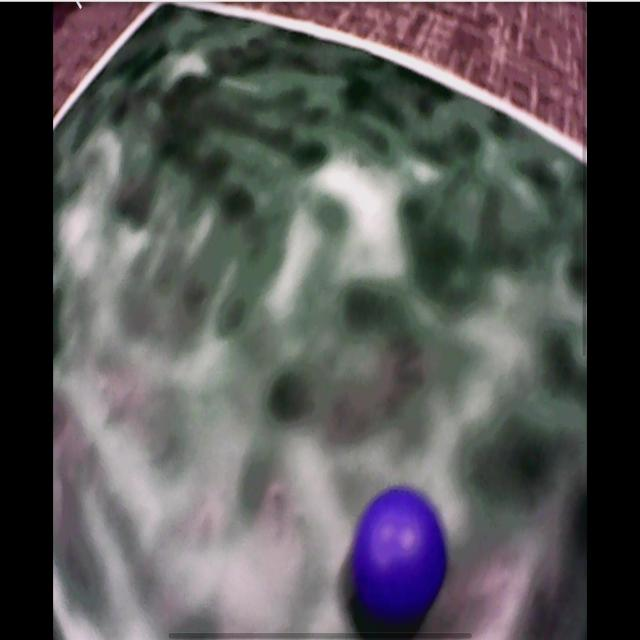ball: (354, 488, 446, 618)
